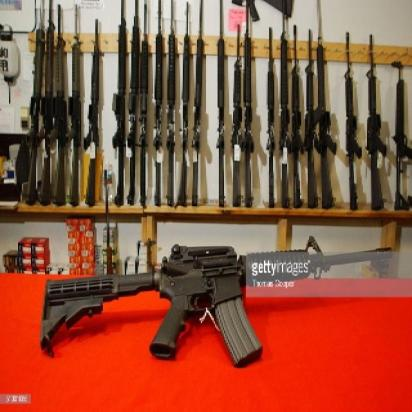Gun: (20, 0, 406, 210), (22, 234, 400, 366)
